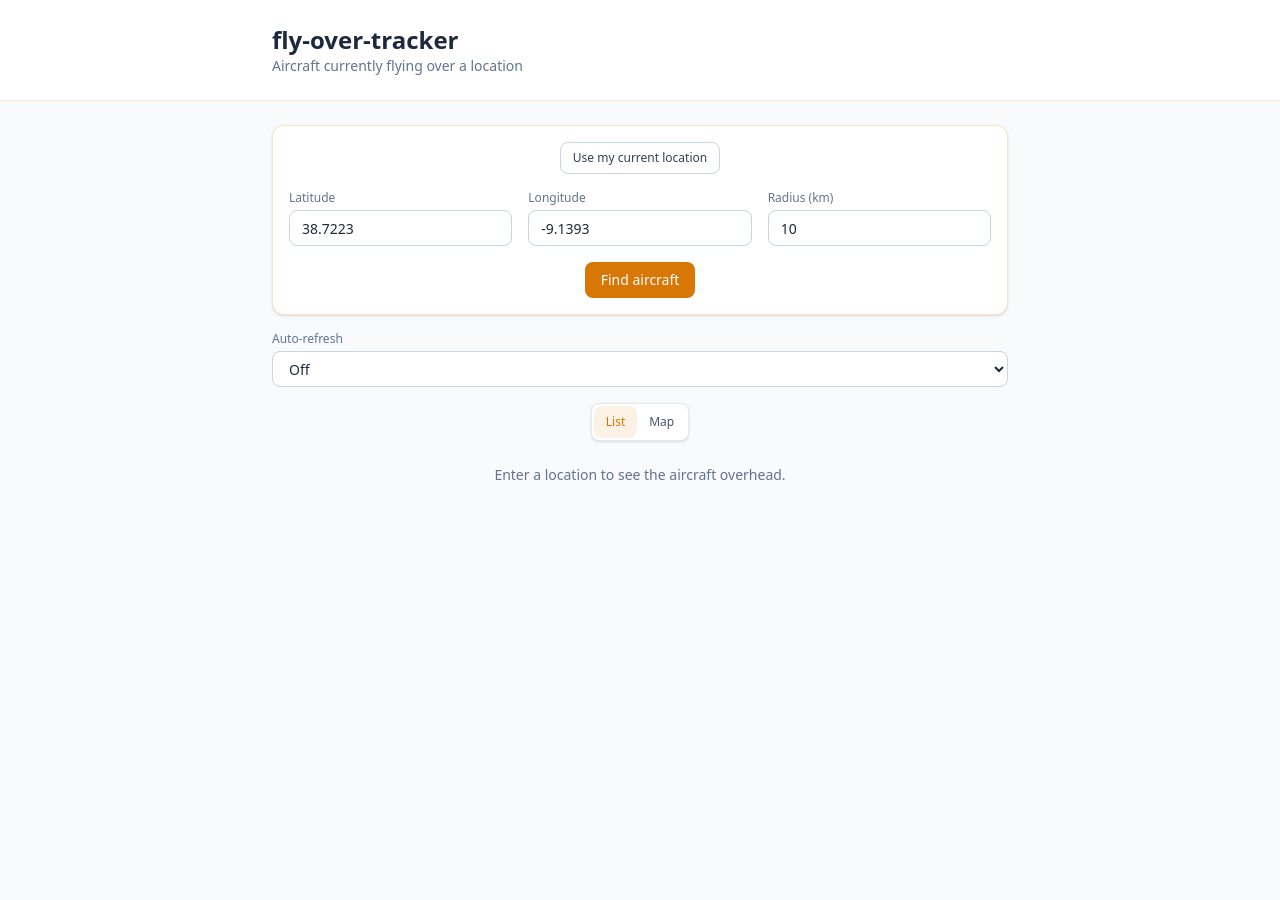
Scenario: App › submits a query and renders the resulting aircraft
This screenshot has width=1280, height=900.
Replace the text in the field labelled "Latitude" with "48.8566" at (401, 228), box [289,210,512,246]
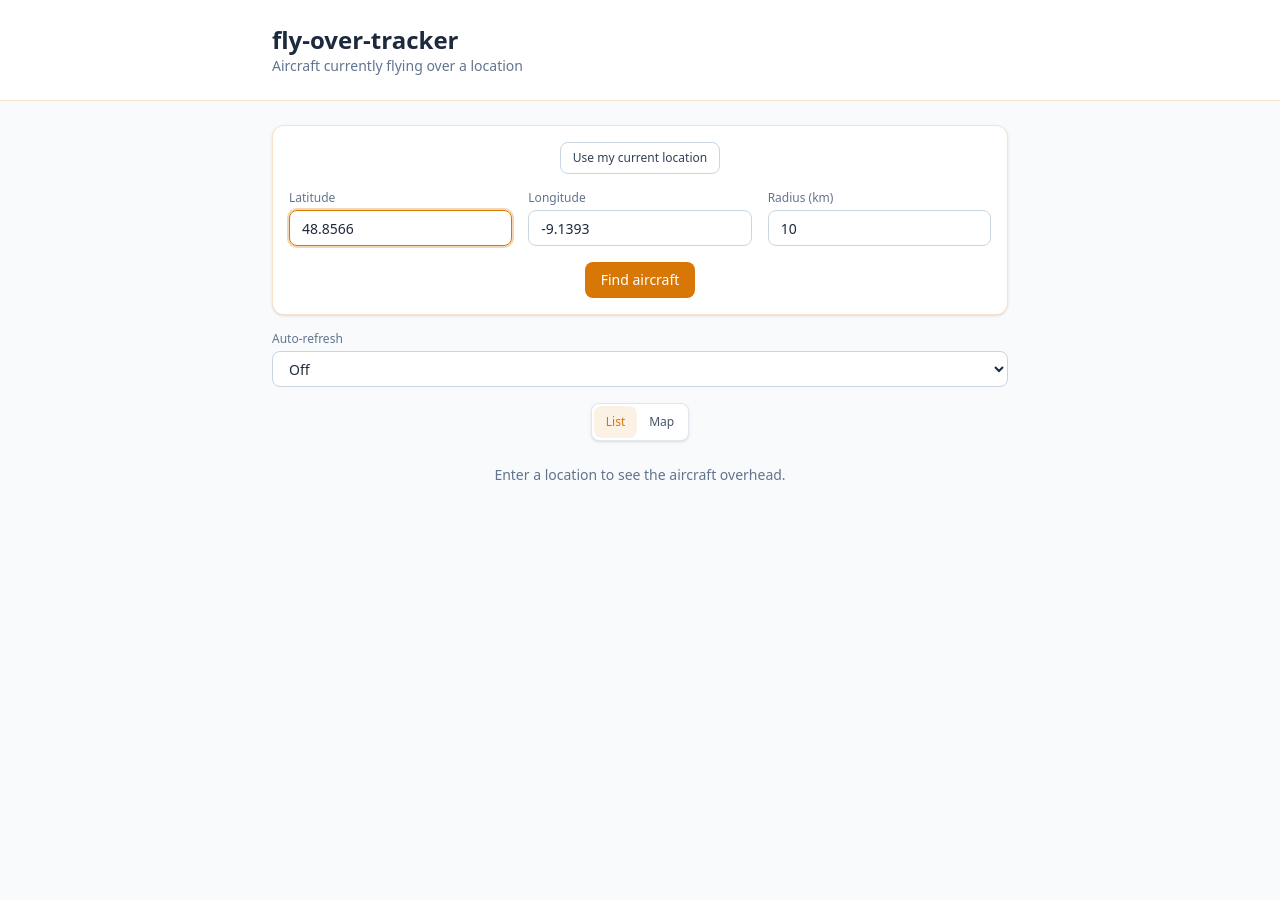
Replace the text in the field labelled "Longitude" with "2.3522" at (640, 228), box [528,210,752,246]
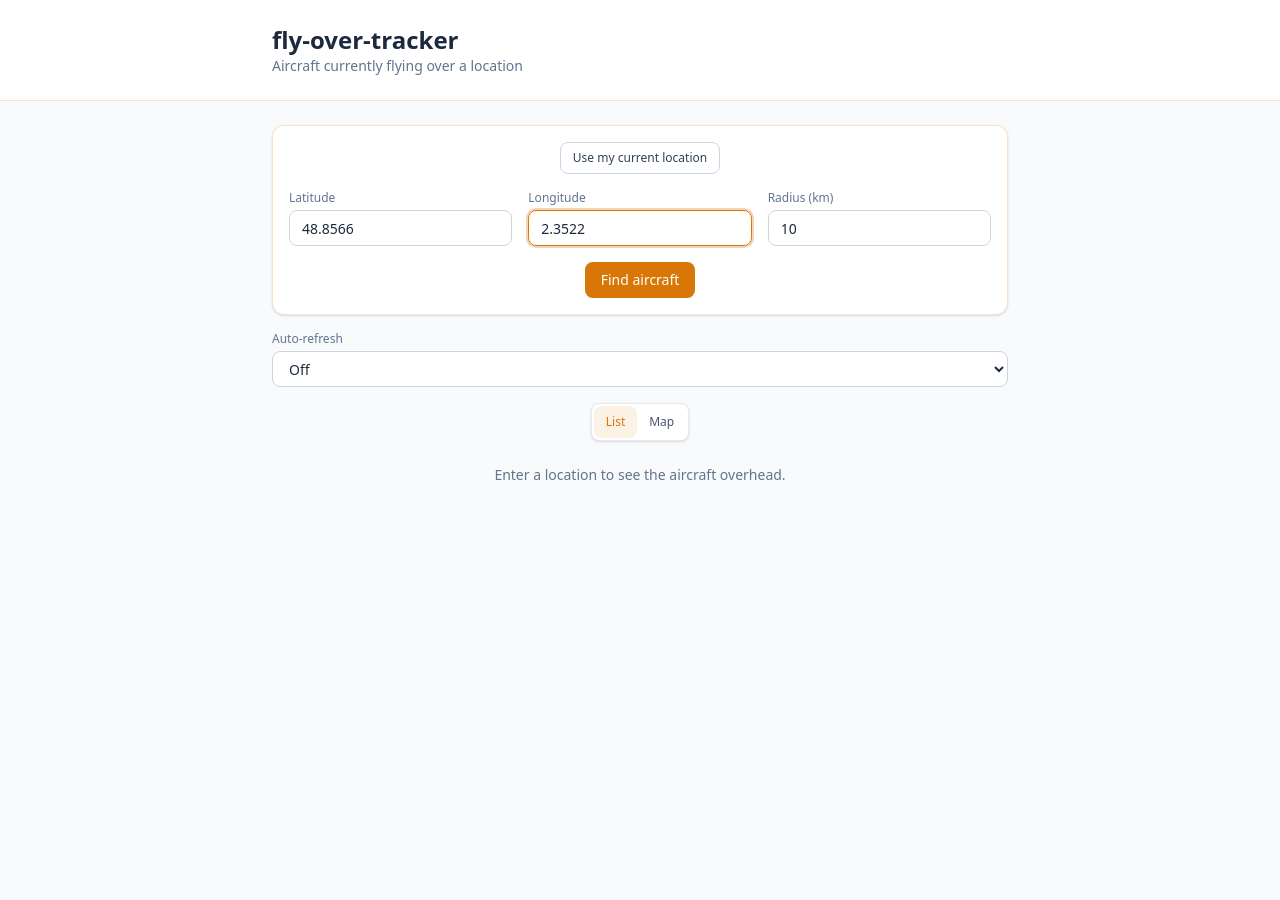
Replace the text in the field labelled "Radius (km)" with "50" at (879, 228), box [768,210,991,246]
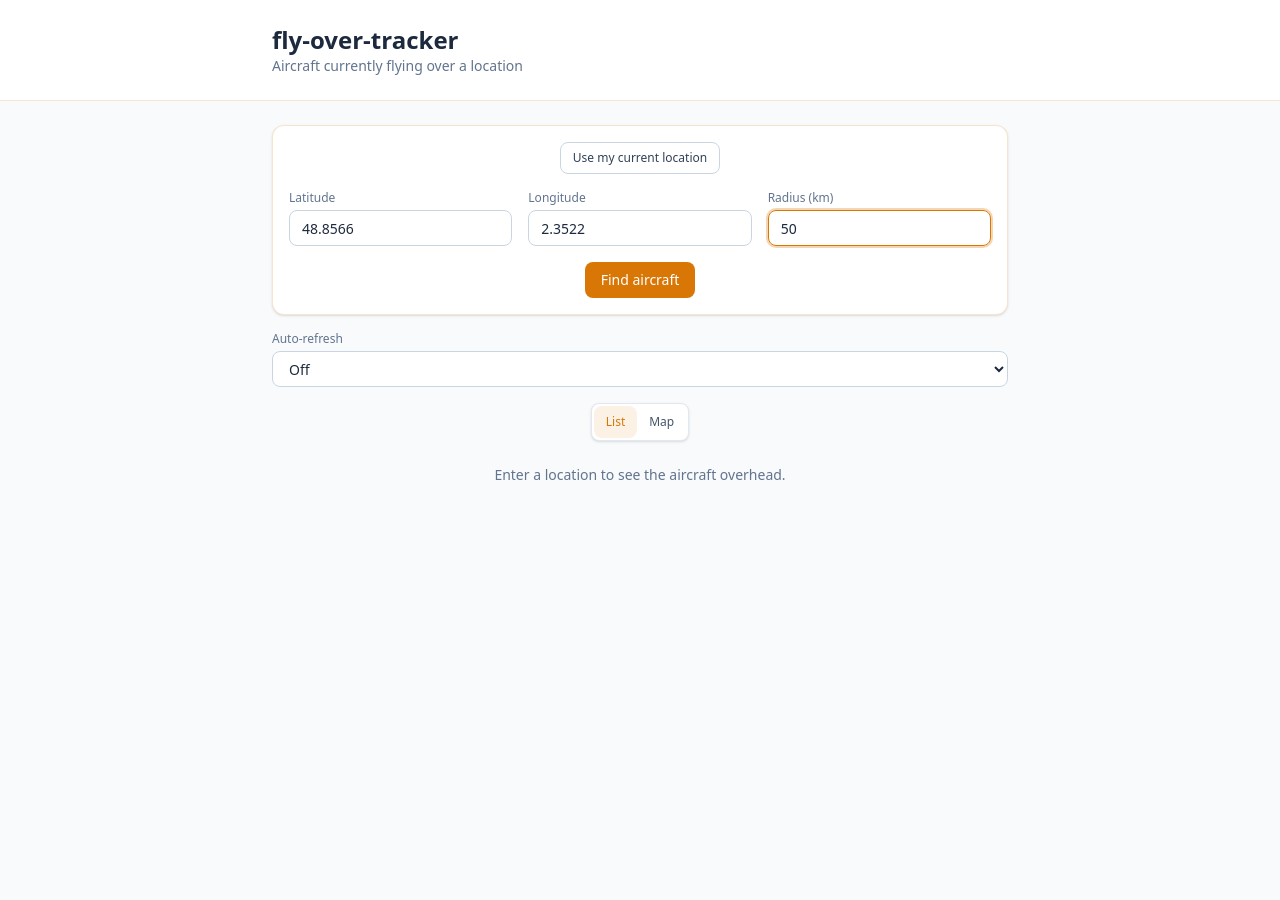
Click the button "Find aircraft".
click(640, 280)  # box [585,262,695,298]
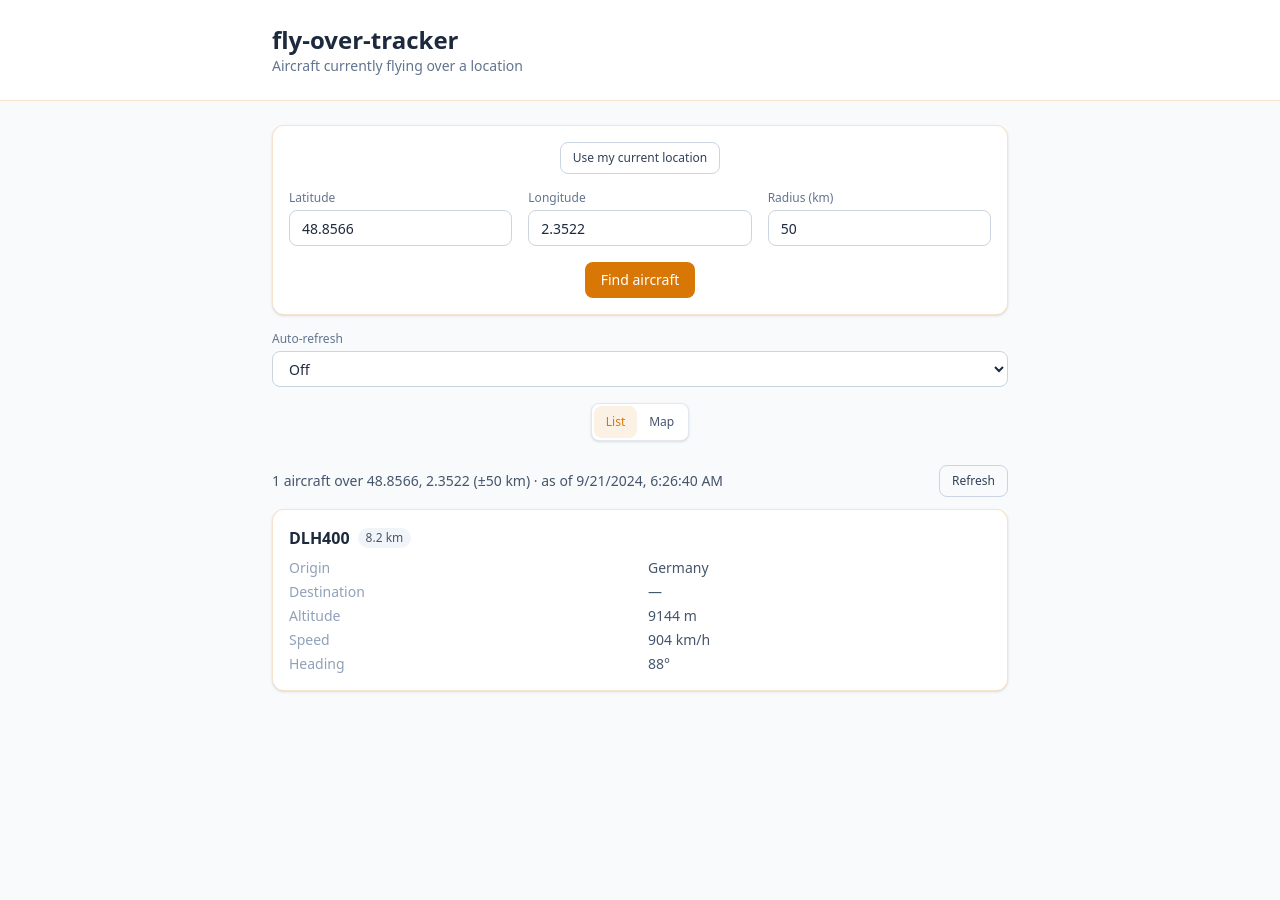
Expected: the heading "DLH400" is shown, [289,526,350,550]
